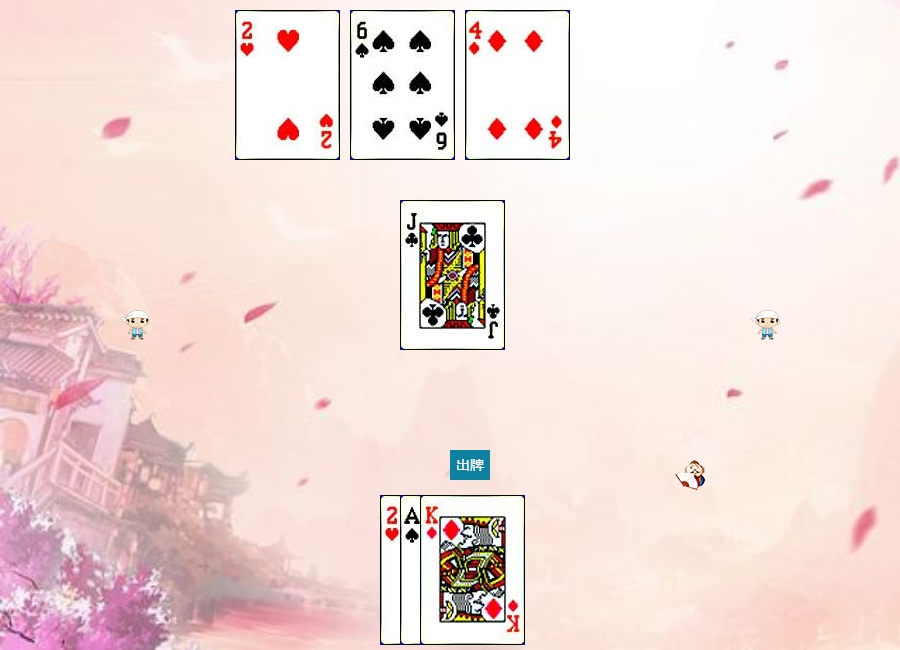11~2: (400, 200, 505, 350)
13~1: (420, 495, 525, 645)
14~4: (400, 495, 505, 645)
15~3: (235, 10, 340, 160), (380, 495, 485, 645)
4~1: (465, 10, 570, 160)
6~4: (350, 10, 455, 160)
